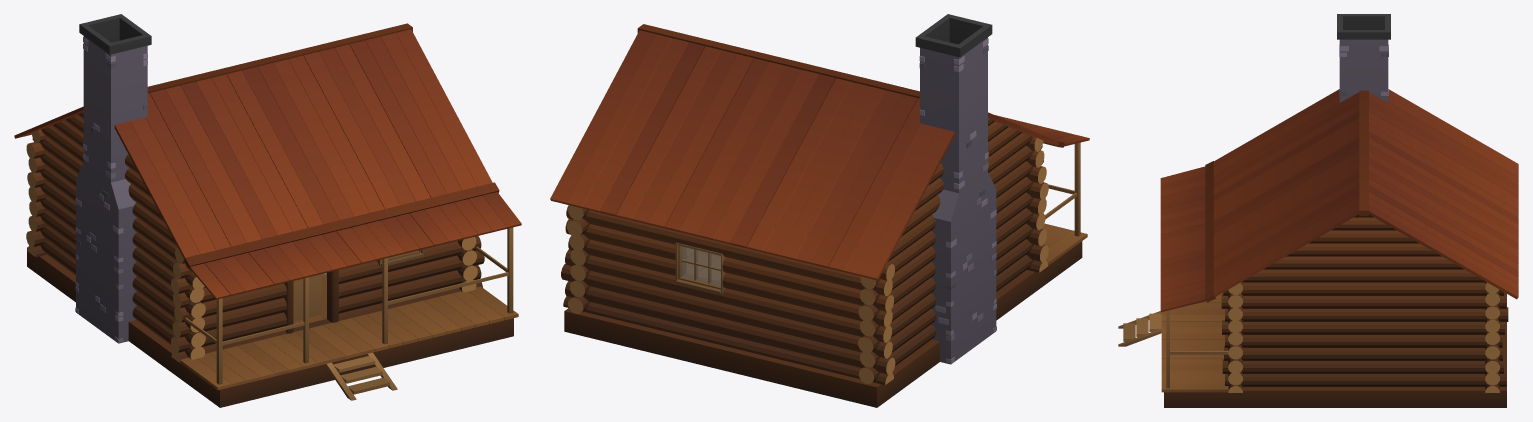
Rendered from Bld_Log_Cabin_01.obj.
The picture shows the model from 3 angles, left to right: view 1: azimuth 30°, elevation 25°; view 2: azimuth 150°, elevation 25°; view 3: azimuth 270°, elevation 25°; orthographic projection. The views are drawn at different scales.
Parts seen in each view (by area): view 1: Bld_Log_Cabin_01, Bld_Log_Cabin_Door_01; view 2: Bld_Log_Cabin_01, (_ignore)_Bld_Log_Cabin_Windows_01; view 3: Bld_Log_Cabin_01.
Part boxes in pixels (box(x1,y1,x2,y2)): Bld_Log_Cabin_01: box(14, 14, 521, 407); Bld_Log_Cabin_Door_01: box(293, 273, 326, 324); Bld_Log_Cabin_01: box(550, 14, 1089, 407); (_ignore)_Bld_Log_Cabin_Windows_01: box(682, 247, 720, 285); Bld_Log_Cabin_01: box(1118, 14, 1518, 407).
Bounding box in the file's own units: 8.22 × 7.3 × 10.15.
Materials: 2 (1 with a texture image).
